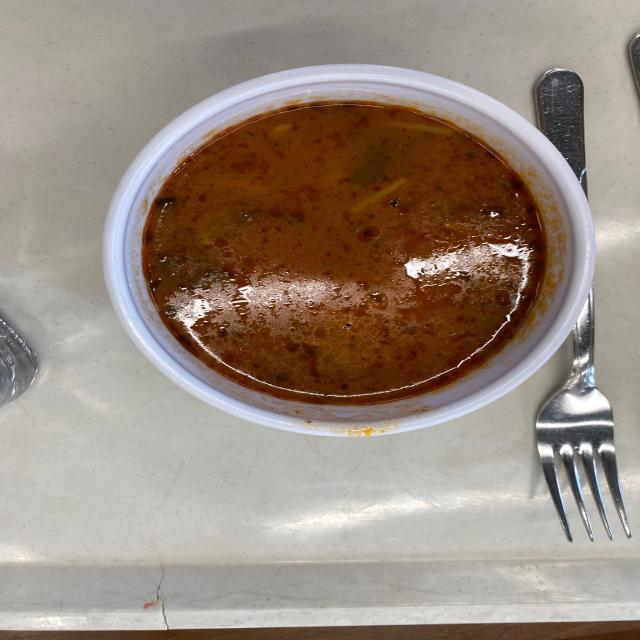corba: (19, 57, 584, 477)
